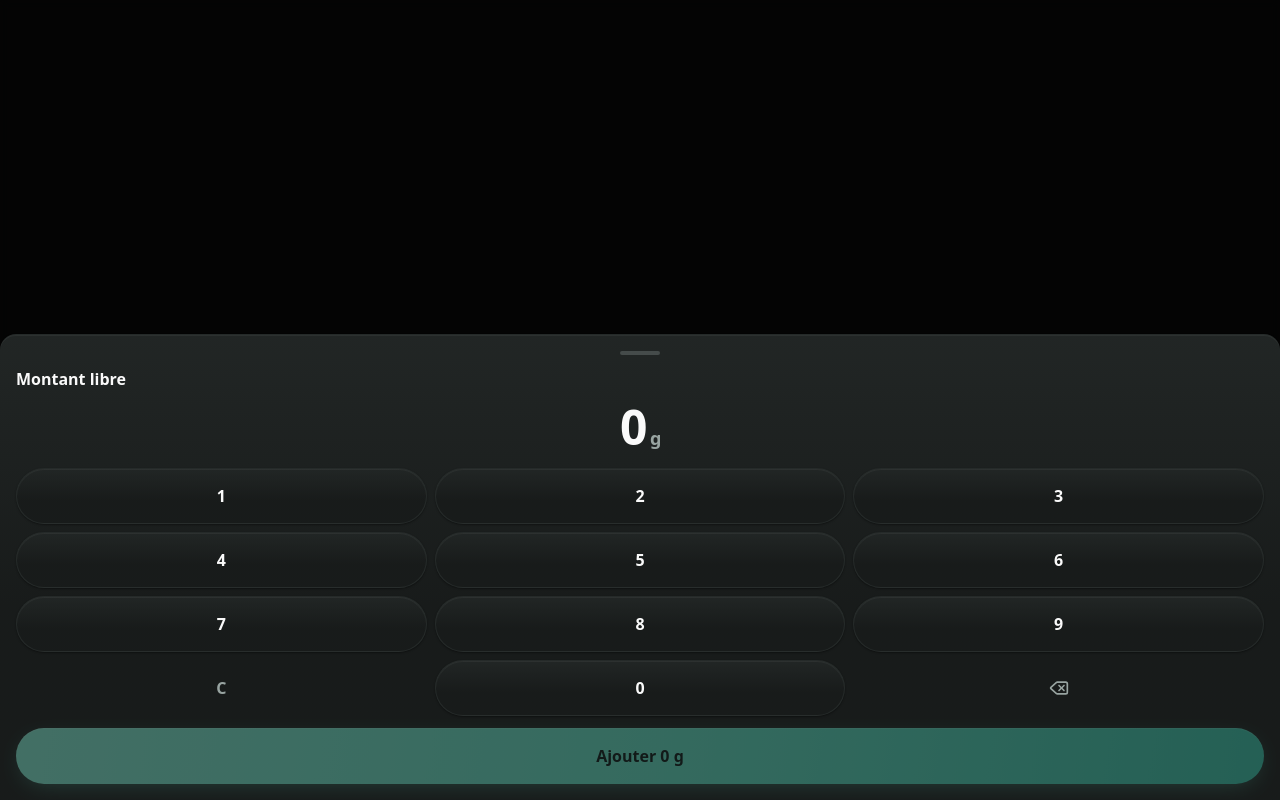
Test case: CustomAmountSheet › drops leading zeros
Click the button "0".
click(640, 688)  # box [435,660,845,716]
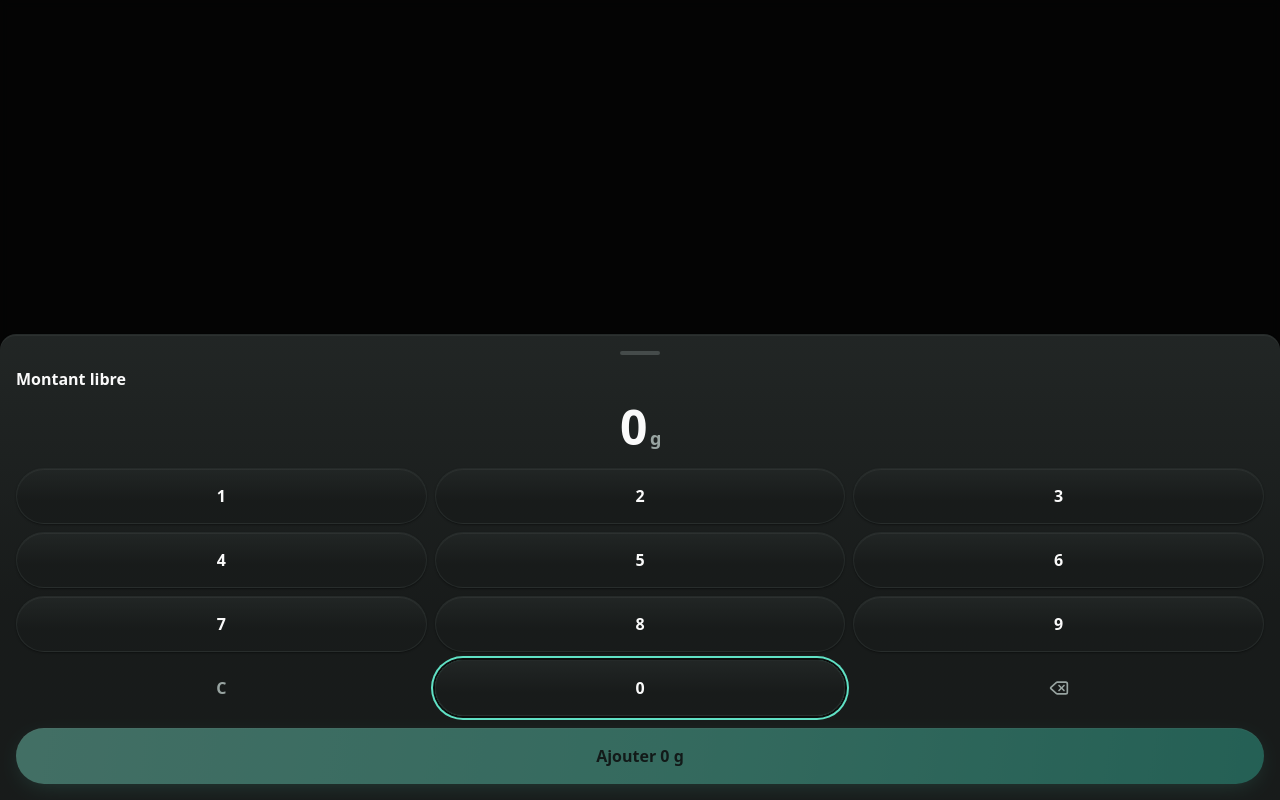
Click the button "5".
click(640, 560)  # box [435,532,845,588]
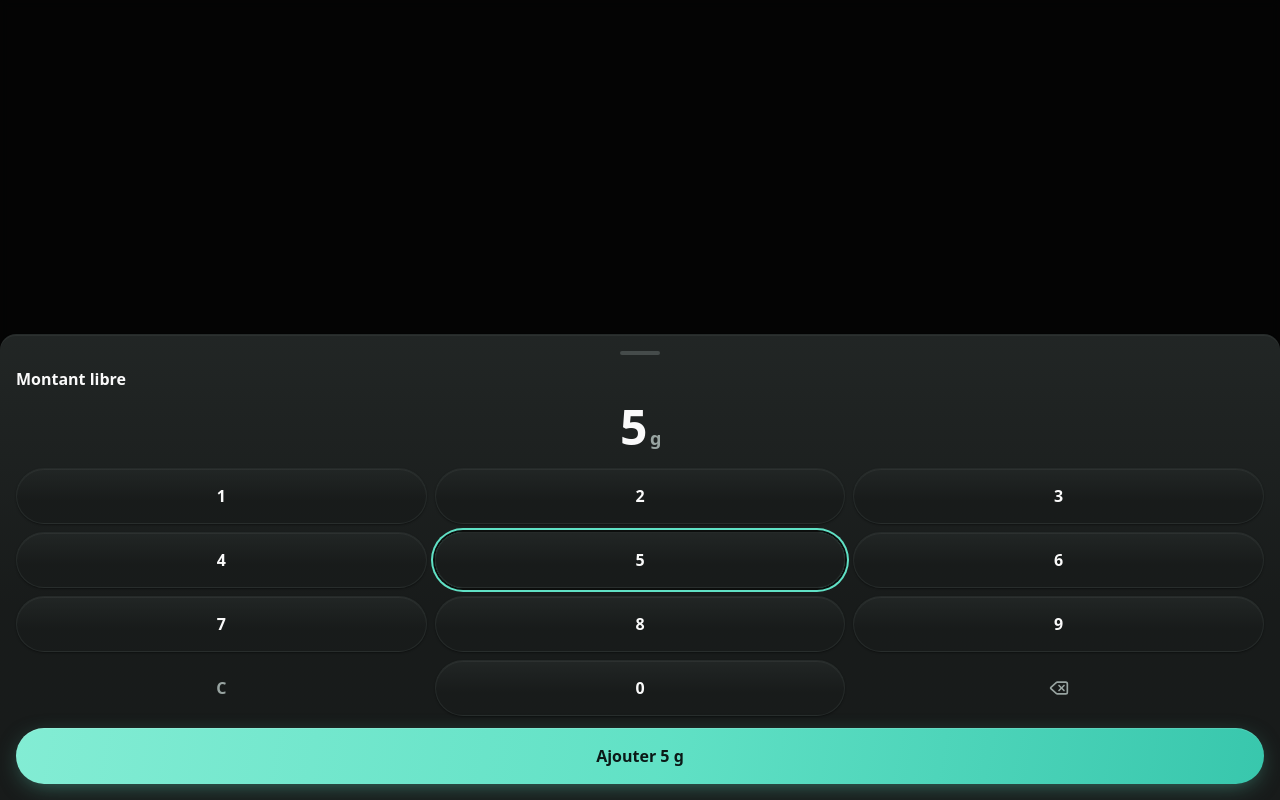
Result: the button "Ajouter 5 g" is enabled at [16,728,1264,784]
